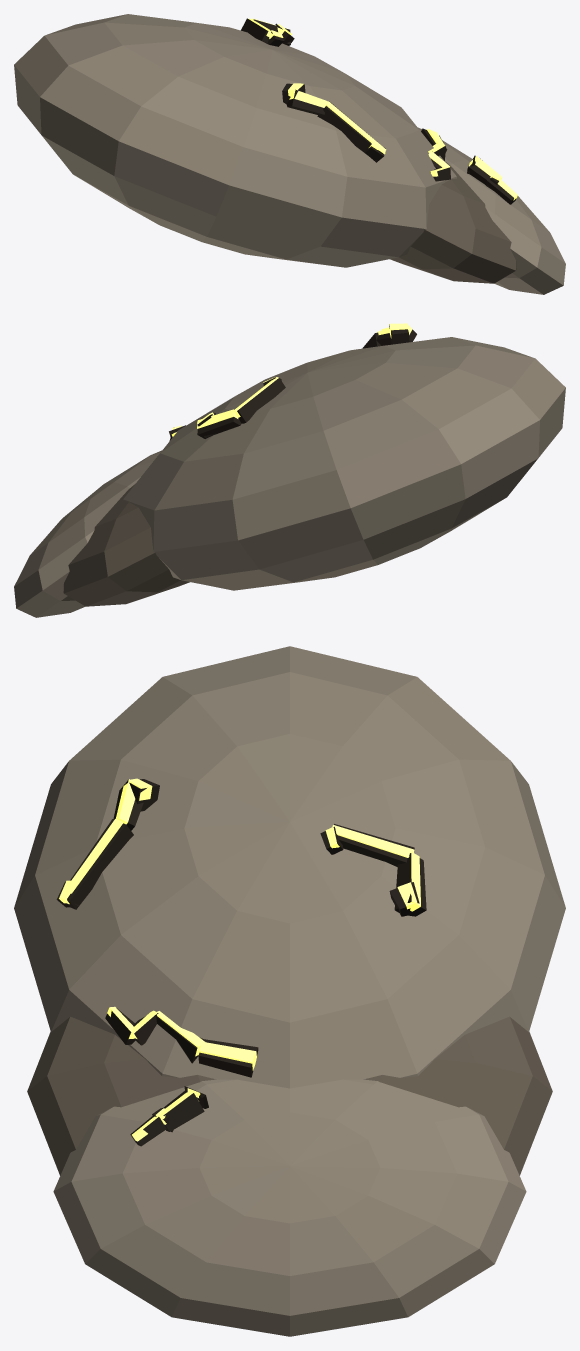
The model's file is unmoving_champion_pauldron_l.glb.
3 views of the same model, one above another, from view 1: azimuth 30°, elevation 25°; view 2: azimuth 150°, elevation 25°; view 3: azimuth 270°, elevation 25° (orthographic). The views are drawn at different scales.
Parts seen in each view (by area): view 1: unmoving_champion_pauldron_l; view 2: unmoving_champion_pauldron_l; view 3: unmoving_champion_pauldron_l.
Boxes of the visible parts, bbox=[...] form: unmoving_champion_pauldron_l: bbox=[14, 14, 565, 294]; unmoving_champion_pauldron_l: bbox=[14, 323, 565, 617]; unmoving_champion_pauldron_l: bbox=[14, 646, 565, 1336].
Bounding box in the file's own units: 0.6521 × 0.4016 × 0.483.
